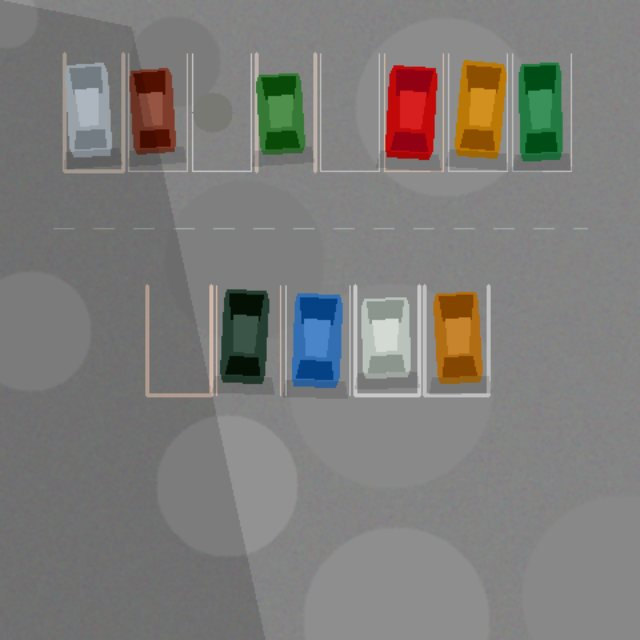space-empty: (147, 285, 211, 395), (192, 53, 251, 171), (320, 53, 379, 171)
space-occupied: (216, 285, 280, 395), (285, 285, 349, 395), (355, 285, 419, 395), (424, 285, 488, 395), (64, 53, 123, 171), (128, 53, 187, 171), (256, 53, 315, 171), (384, 53, 443, 171), (448, 53, 507, 171), (512, 53, 571, 171)
